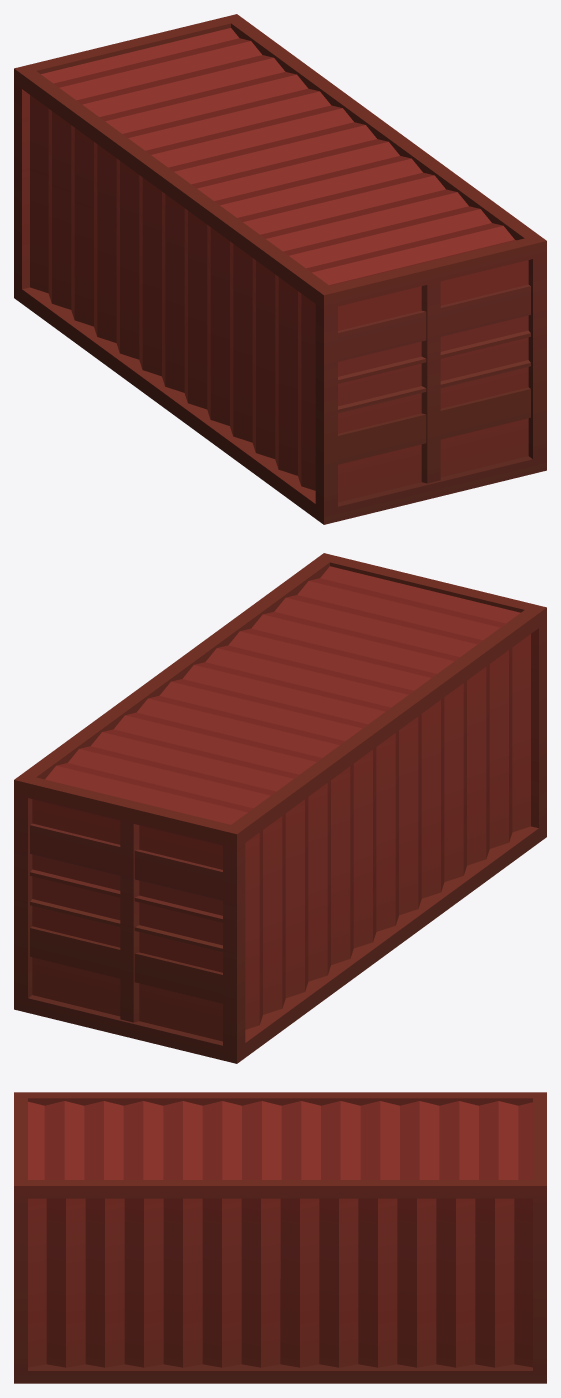
File: Container_1_1.fbx
3 renders of one model, top to bottom at view 1: azimuth 30°, elevation 25°; view 2: azimuth 150°, elevation 25°; view 3: azimuth 270°, elevation 25°, orthographic. The views are drawn at different scales.
Visible parts, largest first — view 1: Container_1_1; view 2: Container_1_1; view 3: Container_1_1.
Part boxes in pixels (left/top/right/bottom): Container_1_1: left=14, top=14, right=546, bottom=524; Container_1_1: left=14, top=553, right=546, bottom=1063; Container_1_1: left=14, top=1092, right=546, bottom=1383.
Size of the model in its own units: 198 by 195 by 477.
